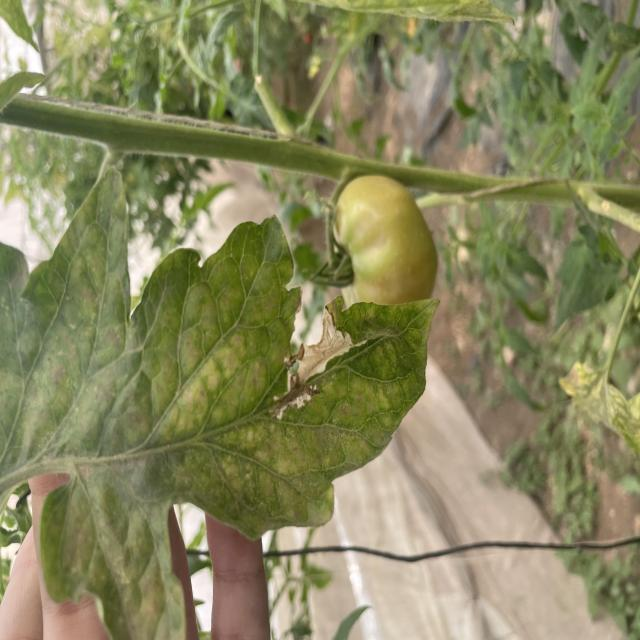Tuta absoluta: (253, 296, 370, 428)
